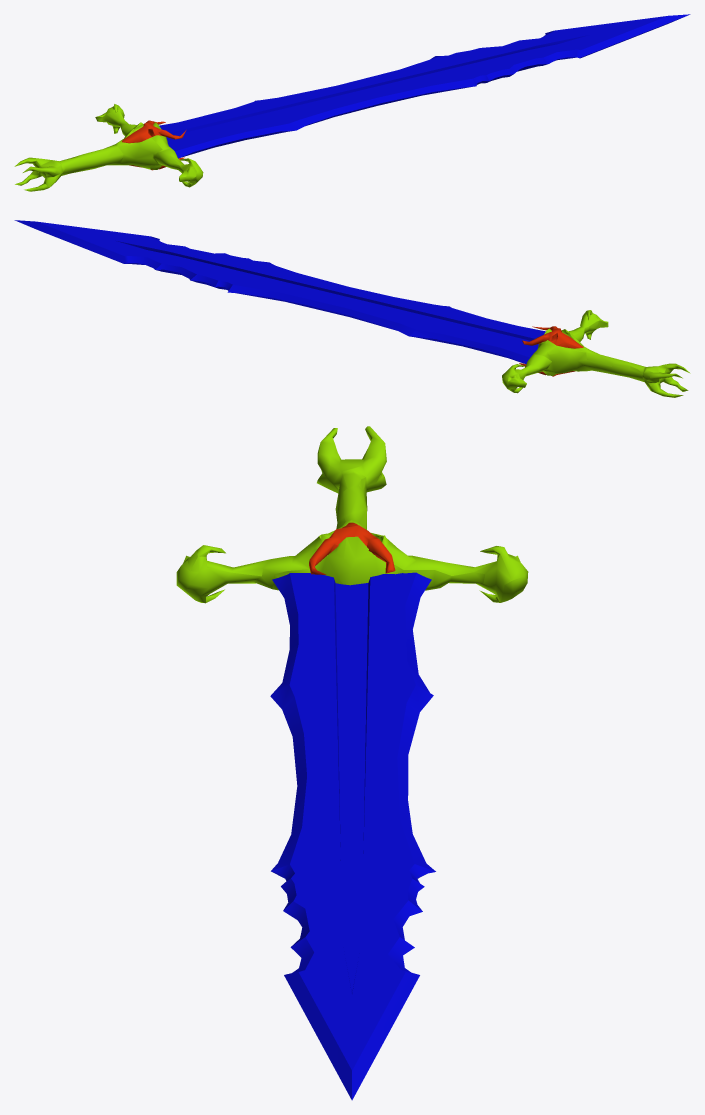
Rendered from SM_Sword_Deamon.fbx.
The picture shows the model from 3 angles, top to bottom: view 1: azimuth 30°, elevation 25°; view 2: azimuth 150°, elevation 25°; view 3: azimuth 270°, elevation 25°; orthographic projection. The views are drawn at different scales.
Visible parts, largest first — view 1: SM_Sword_Deamon; view 2: SM_Sword_Deamon; view 3: SM_Sword_Deamon.
Boxes of the visible parts, box(x1,y1,x2,y2) form: SM_Sword_Deamon: box(14, 14, 690, 191); SM_Sword_Deamon: box(14, 220, 690, 397); SM_Sword_Deamon: box(176, 426, 528, 1100).
Bounding box in the file's own units: 176 × 39.74 × 11.03.
